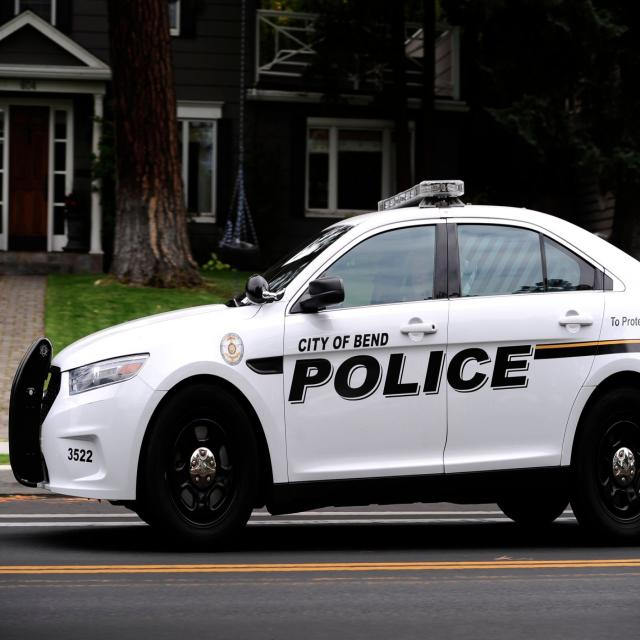cop: (7, 177, 640, 565)
